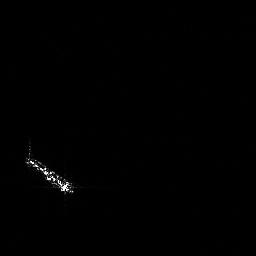ship: (25, 155, 73, 194)
